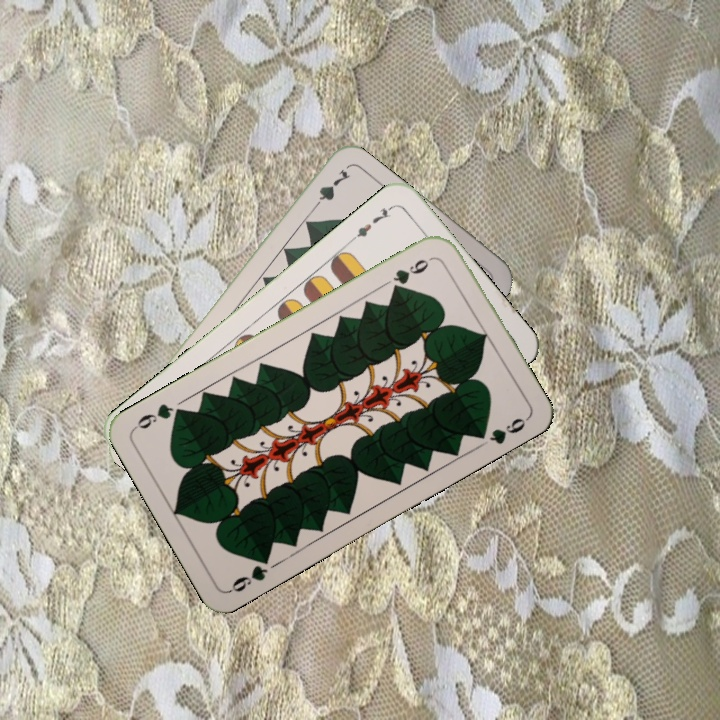E7: (347, 201, 396, 244)
G7: (306, 165, 354, 216)
G9: (225, 550, 273, 595), (388, 252, 437, 294)
